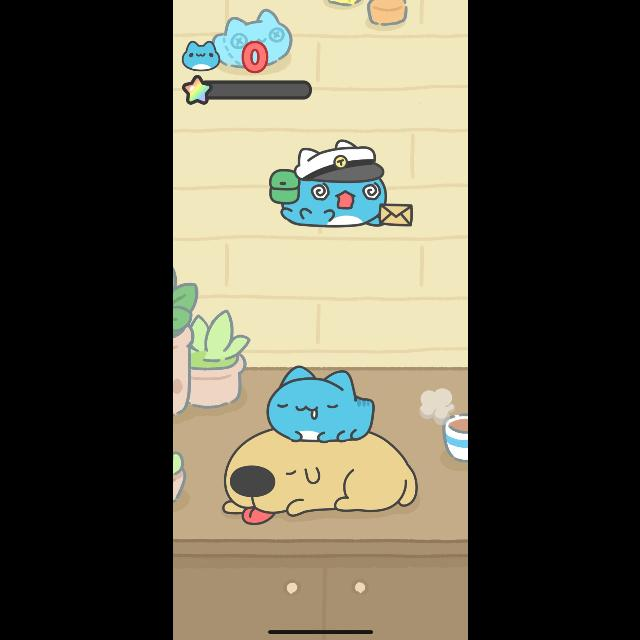capoo: (270, 136, 406, 232), (269, 366, 375, 440)
